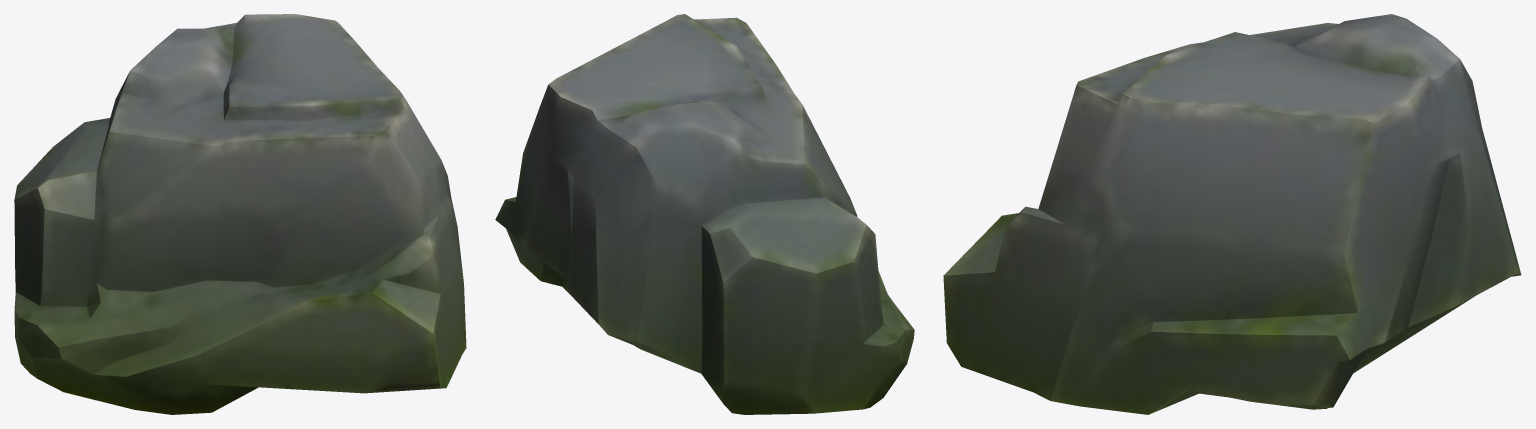
Rendered from Rock_Medium_3.gltf.
The picture shows the model from 3 angles, left to right: view 1: azimuth 30°, elevation 25°; view 2: azimuth 150°, elevation 25°; view 3: azimuth 270°, elevation 25°; orthographic projection. The views are drawn at different scales.
Visible parts, largest first — view 1: Rock_Medium_3; view 2: Rock_Medium_3; view 3: Rock_Medium_3.
Boxes of the visible parts, bbox=[...] form: Rock_Medium_3: bbox=[14, 14, 466, 414]; Rock_Medium_3: bbox=[495, 14, 914, 414]; Rock_Medium_3: bbox=[943, 14, 1521, 414].
Bounding box in the file's own units: 3.42 × 2.32 × 3.48.
Materials: 1 (1 with a texture image).
